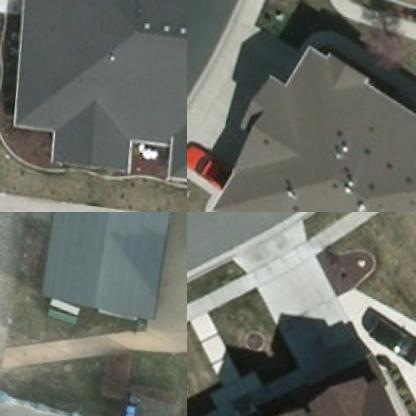car: (187, 133, 236, 192), (366, 307, 415, 365)
